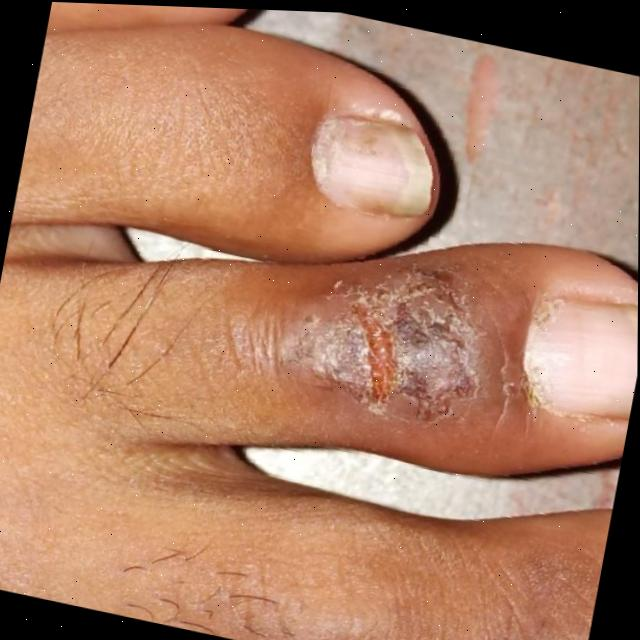Eczema: (300, 252, 476, 395)
